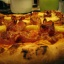pepperoni: (39, 17, 57, 34), (4, 22, 30, 31)
pizza: (1, 12, 64, 62)
